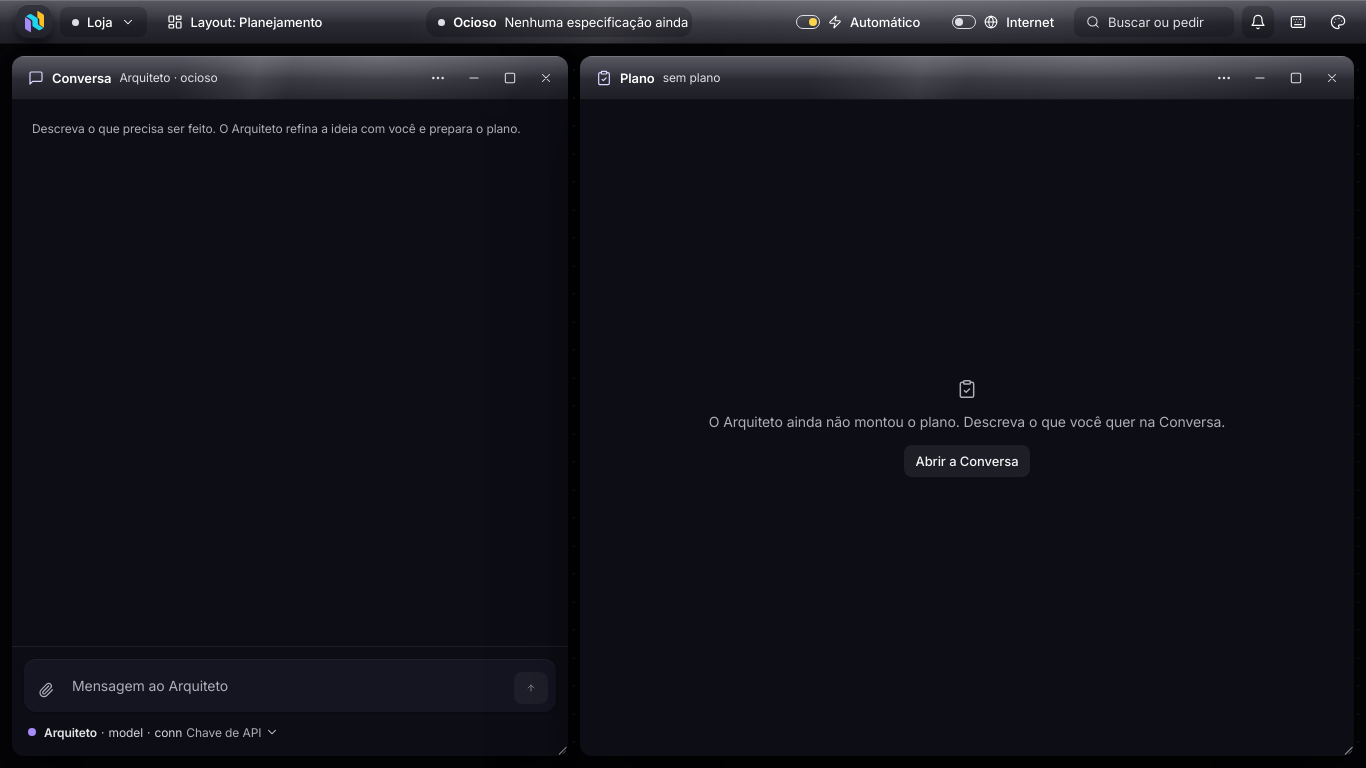
Test: Shell: barra superior › erro da aprovação automática aparece abaixo da barra (role=alert)
Click the switch named "Aprovação automática". click: (858, 22)
box: [784,7,932,37]
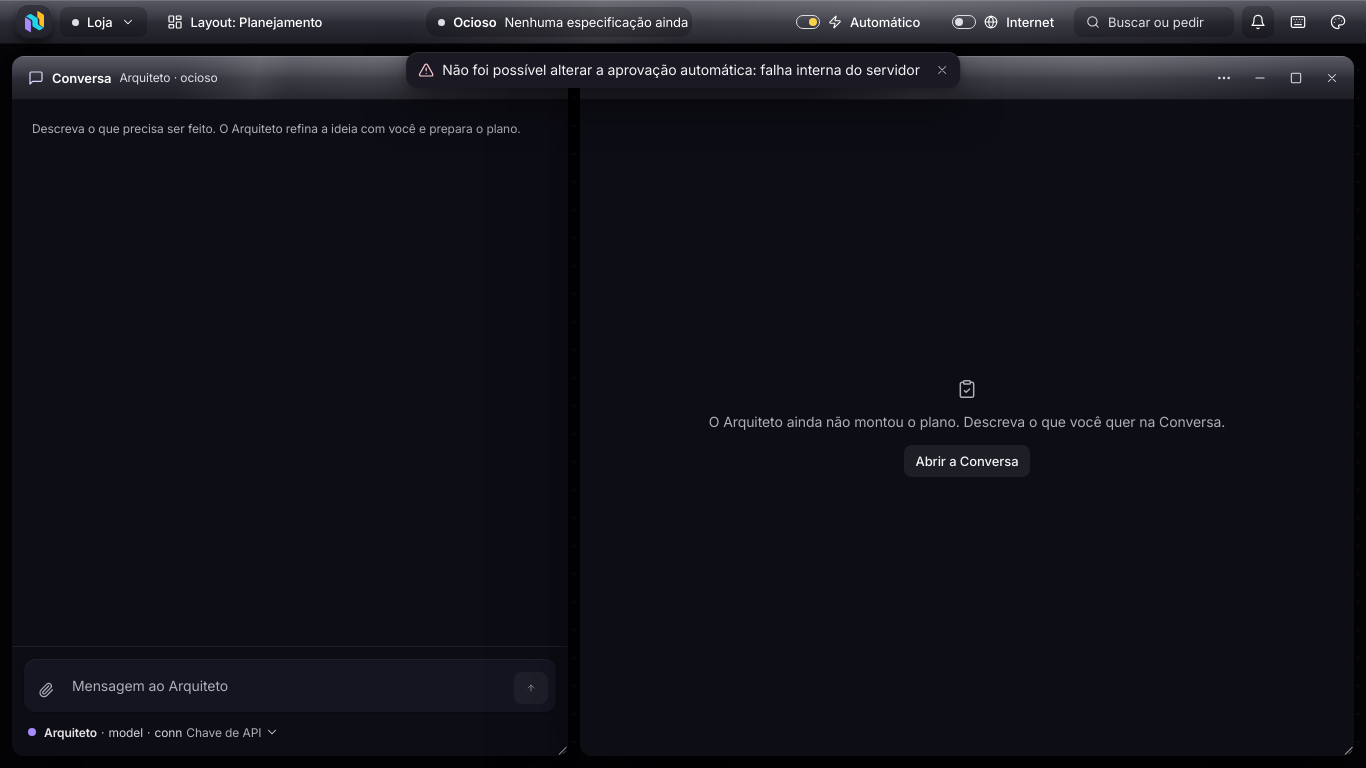
Expected: the message "Não foi possível alterar a aprovação automática: falha interna do servidor" is shown, [406,52,960,88]
